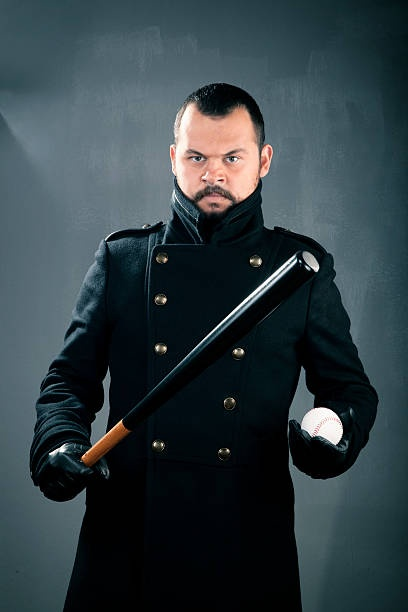bita: (68, 260, 325, 467)
